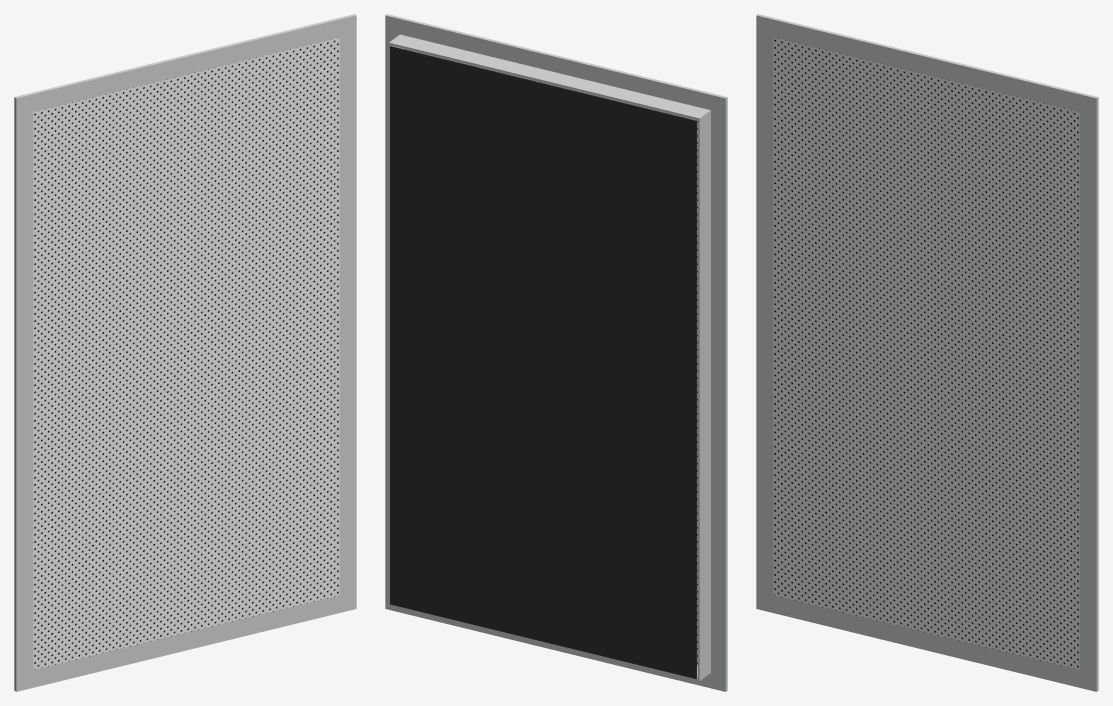
The model's file is ecoclima-egfr-300x500.glb.
3 views of the same model, side by side, from view 1: azimuth 30°, elevation 25°; view 2: azimuth 150°, elevation 25°; view 3: azimuth 330°, elevation 25° (orthographic).
Visible parts, largest first — view 1: Profile_lamiera_forata, Profile_cornice.111, Profile_cornice.112, Profile_cornice.109, Profile_cornice.110; view 2: Interno.031, Profile_cornice.111, Profile_ritorno.118, Profile_cornice.109, Profile_ritorno.116, Profile_cornice.112, Profile_cornice.110, Profile_lamiera_forata, Profile_ritorno.117, Profile_ritorno.119; view 3: Profile_lamiera_forata, Profile_cornice.112, Profile_cornice.111, Profile_cornice.109, Profile_cornice.110.
Boxes of the visible parts, x1,y1,x2,y2 form: Profile_lamiera_forata: [33, 37, 339, 669]; Profile_cornice.111: [14, 112, 33, 673]; Profile_cornice.112: [339, 33, 356, 594]; Profile_cornice.109: [14, 14, 356, 115]; Profile_cornice.110: [14, 591, 356, 691]; Interno.031: [390, 46, 696, 678]; Profile_cornice.111: [711, 112, 727, 673]; Profile_ritorno.118: [697, 113, 710, 678]; Profile_cornice.109: [385, 14, 727, 115]; Profile_ritorno.116: [389, 34, 710, 120]; Profile_cornice.112: [385, 33, 403, 591]; Profile_cornice.110: [385, 591, 727, 691]; Profile_lamiera_forata: [404, 48, 697, 665]; Profile_ritorno.117: [389, 603, 710, 680]; Profile_ritorno.119: [389, 45, 402, 602]; Profile_lamiera_forata: [773, 37, 1079, 669]; Profile_cornice.112: [1079, 112, 1098, 673]; Profile_cornice.111: [756, 33, 773, 594]; Profile_cornice.109: [756, 14, 1098, 115]; Profile_cornice.110: [756, 591, 1098, 691].
Size of the model in its own units: 0.3 by 0.5 by 0.022.
3 materials, 1 textured.
